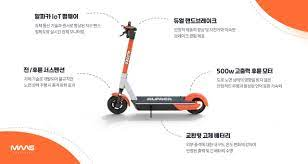kick_body: (138, 97, 186, 110)
kick_handler: (121, 20, 138, 38)
kick_neck: (118, 41, 134, 89)
kick_wheel: (187, 93, 207, 115), (108, 94, 130, 113)
